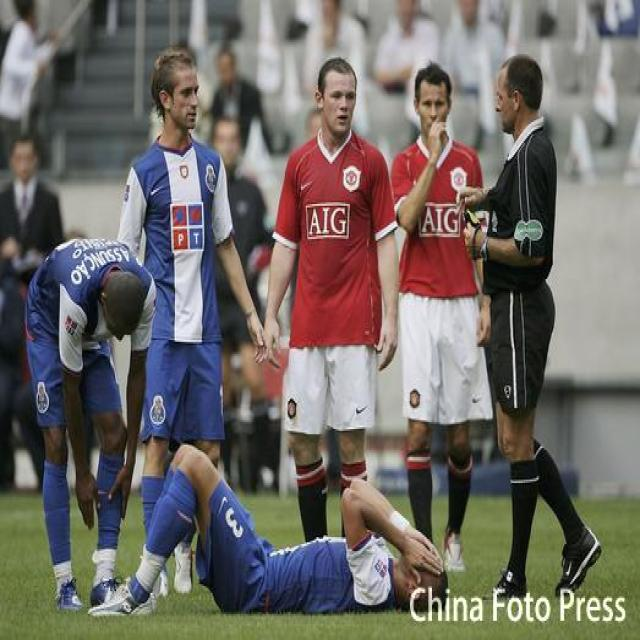10-: (0, 0, 602, 612)
down: (92, 431, 450, 610)
